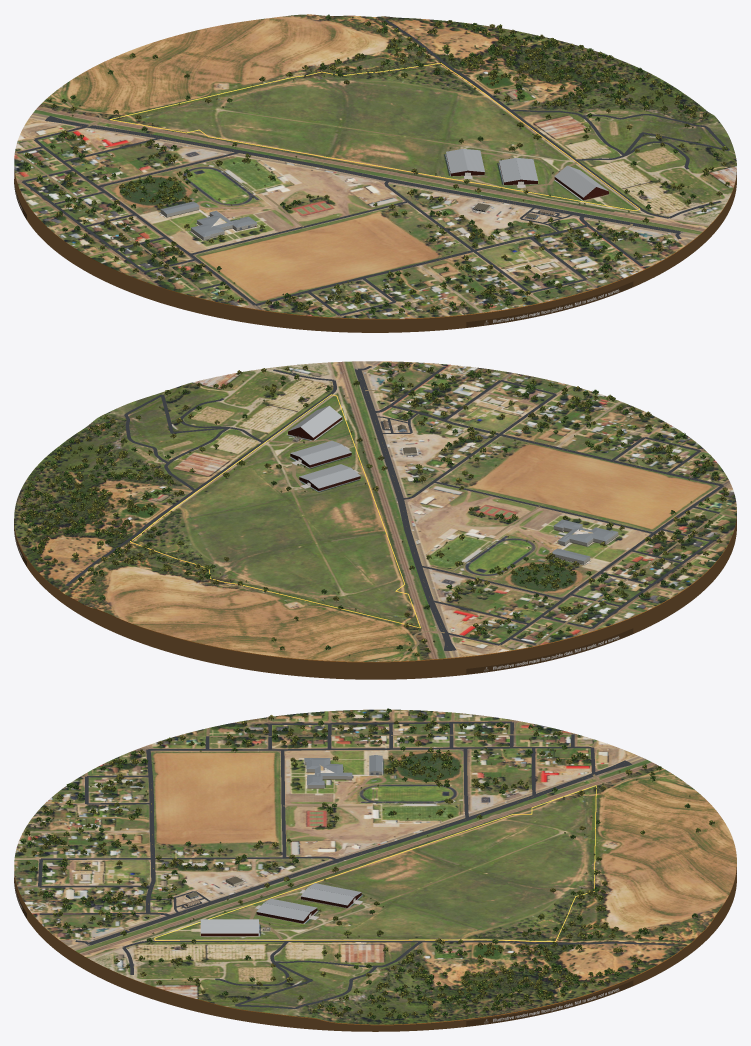
The picture shows the model from 3 angles, top to bottom: view 1: azimuth 30°, elevation 25°; view 2: azimuth 150°, elevation 25°; view 3: azimuth 270°, elevation 25°; orthographic projection.
Visible parts, largest first — view 1: ground_m, trees, roads_site_asphalt, plinth_base, border_border, plinth_print, town_bk_metal_cladding_pale_a9b1b7, plinth_band, barn_roof_e_barn_roof, barn_roof_w_barn_roof, site_bk_metal_cladding_pale_dfe3e6, roads_drive_gravel (+1 smaller); view 2: ground_m, trees, plinth_base, roads_site_asphalt, plinth_print, border_border, town_bk_metal_cladding_pale_a9b1b7, plinth_band, barn_roof_e_barn_roof, barn_roof_w_barn_roof, site_bk_metal_cladding_pale_dfe3e6, roads_drive_gravel (+1 smaller); view 3: ground_m, trees, roads_site_asphalt, plinth_base, border_border, plinth_print, plinth_band, town_bk_metal_cladding_pale_a9b1b7, site_bk_metal_cladding_pale_dfe3e6, roads_drive_gravel, barn_roof_w_barn_roof, barn_roof_e_barn_roof (+1 smaller).
Boxes of the visible parts, left/top/right/bottom form: ground_m: left=14, top=14, right=736, bottom=318; trees: left=23, top=14, right=730, bottom=315; roads_site_asphalt: left=17, top=20, right=729, bottom=315; plinth_base: left=14, top=172, right=736, bottom=332; border_border: left=109, top=63, right=640, bottom=210; plinth_print: left=14, top=179, right=633, bottom=327; town_bk_metal_cladding_pale_a9b1b7: left=160, top=201, right=256, bottom=236; plinth_band: left=15, top=14, right=736, bottom=319; barn_roof_e_barn_roof: left=499, top=157, right=538, bottom=182; barn_roof_w_barn_roof: left=446, top=149, right=484, bottom=173; site_bk_metal_cladding_pale_dfe3e6: left=554, top=165, right=607, bottom=197; roads_drive_gravel: left=17, top=101, right=632, bottom=289; ground_m: left=14, top=361, right=736, bottom=661; trees: left=19, top=362, right=729, bottom=656; plinth_base: left=14, top=520, right=736, bottom=679; roads_site_asphalt: left=66, top=366, right=723, bottom=650; plinth_print: left=14, top=526, right=633, bottom=674; border_border: left=130, top=394, right=420, bottom=628; town_bk_metal_cladding_pale_a9b1b7: left=552, top=519, right=617, bottom=561; plinth_band: left=15, top=361, right=735, bottom=662; barn_roof_e_barn_roof: left=290, top=440, right=351, bottom=464; barn_roof_w_barn_roof: left=299, top=464, right=360, bottom=488; site_bk_metal_cladding_pale_dfe3e6: left=288, top=405, right=342, bottom=437; roads_drive_gravel: left=365, top=389, right=720, bottom=654; ground_m: left=14, top=709, right=736, bottom=1024; trees: left=20, top=708, right=714, bottom=1020; roads_site_asphalt: left=38, top=721, right=674, bottom=1008; plinth_base: left=14, top=871, right=736, bottom=1031; border_border: left=154, top=785, right=596, bottom=941; plinth_print: left=14, top=878, right=633, bottom=1026; plinth_band: left=14, top=709, right=736, bottom=1025; town_bk_metal_cladding_pale_a9b1b7: left=304, top=755, right=382, bottom=784; site_bk_metal_cladding_pale_dfe3e6: left=200, top=919, right=258, bottom=933; roads_drive_gravel: left=122, top=734, right=659, bottom=930; barn_roof_w_barn_roof: left=301, top=883, right=361, bottom=905; barn_roof_e_barn_roof: left=256, top=898, right=317, bottom=920.
Size of the model in its own units: 0.6 by 0.0227 by 0.6001.
Materials: 125 (72 with a texture image).
